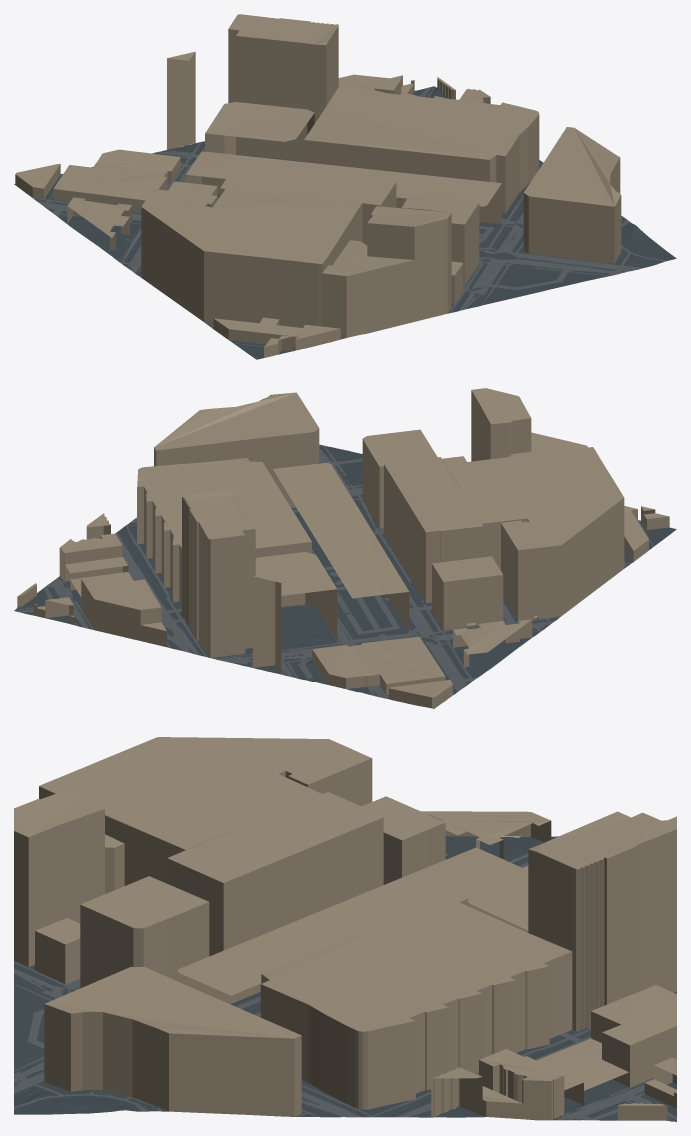
Rendered from epsg26910-1438-10890.lod0.glb.
3 renders of one model, top to bottom at view 1: azimuth 30°, elevation 25°; view 2: azimuth 150°, elevation 25°; view 3: azimuth 270°, elevation 25°, orthographic. The views are drawn at different scales.
Parts seen in each view (by area): view 1: epsg26910-1438-10890-lod0; view 2: epsg26910-1438-10890-lod0; view 3: epsg26910-1438-10890-lod0.
Part boxes in pixels (x1=…): epsg26910-1438-10890-lod0: x1=14, y1=14, x2=676, y2=359; epsg26910-1438-10890-lod0: x1=14, y1=388, x2=676, y2=708; epsg26910-1438-10890-lod0: x1=14, y1=737, x2=676, y2=1121.
Bounding box in the file's own units: 384 × 106 × 384.
